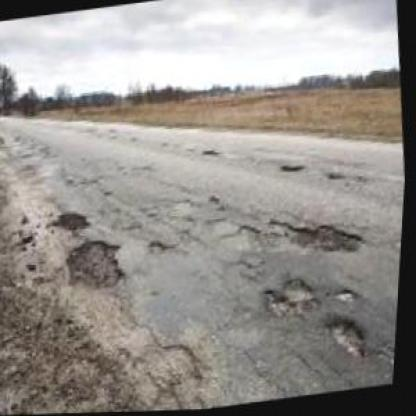pothole: (270, 204, 369, 263), (63, 235, 130, 292), (265, 274, 323, 322), (326, 312, 376, 365), (50, 206, 96, 235), (334, 288, 362, 305)
